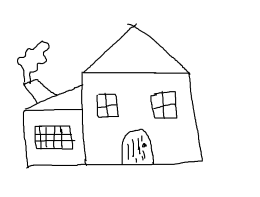closed_window: (32, 122, 76, 154), (145, 86, 179, 126), (90, 89, 127, 119)
door: (116, 124, 162, 170)
roof: (70, 19, 194, 76), (16, 82, 91, 112)
smoking_chimney: (9, 34, 70, 101)
wall: (78, 68, 204, 172), (16, 107, 92, 176)
